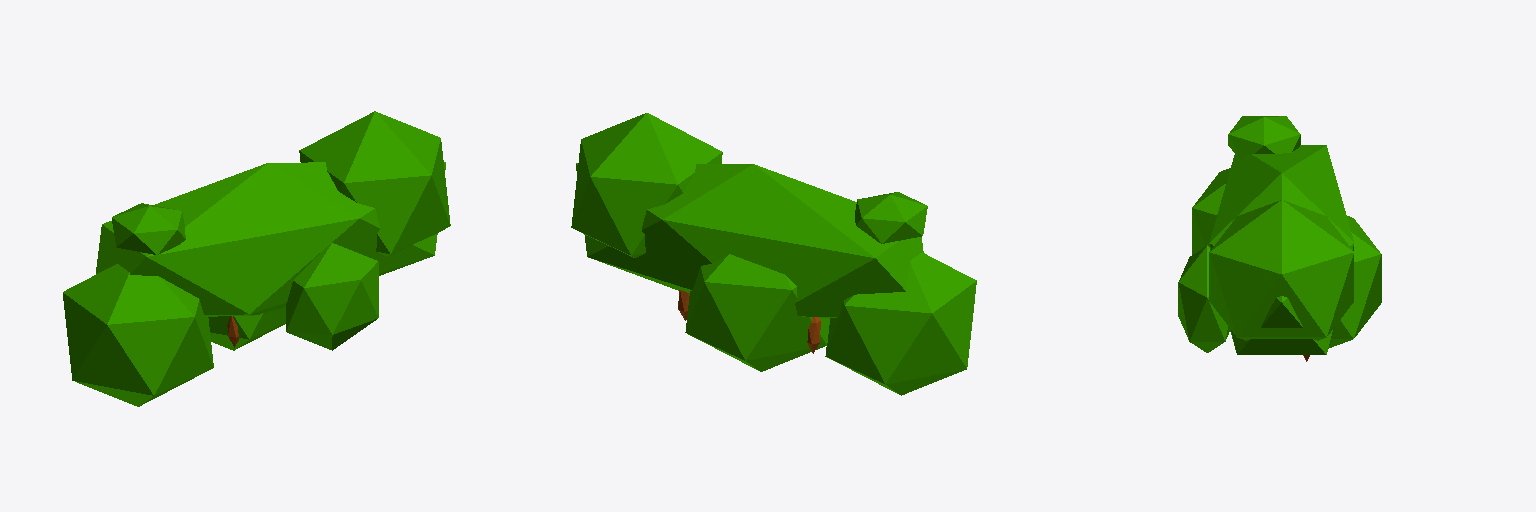
Rendered from Peanut.obj.
3 renders of one model, left to right at view 1: azimuth 30°, elevation 25°; view 2: azimuth 150°, elevation 25°; view 3: azimuth 270°, elevation 25°, orthographic.
Parts seen in each view (by area): view 1: Icosphere_Icosphere.096, Icosphere.003_Icosphere.099, Icosphere.001_Icosphere.097, Icosphere.005_Icosphere.101, Icosphere.004_Icosphere.100, Icosphere.002_Icosphere.098; view 2: Icosphere_Icosphere.096, Icosphere.003_Icosphere.099, Icosphere.001_Icosphere.097, Icosphere.002_Icosphere.098, Icosphere.004_Icosphere.100; view 3: Icosphere.001_Icosphere.097, Icosphere_Icosphere.096, Icosphere.005_Icosphere.101, Icosphere.002_Icosphere.098, Icosphere.004_Icosphere.100, Icosphere.003_Icosphere.099.
Boxes of the visible parts, x1=… form: Icosphere_Icosphere.096: x1=96, y1=162, x2=445, y2=316; Icosphere.003_Icosphere.099: x1=63, y1=264, x2=213, y2=406; Icosphere.001_Icosphere.097: x1=299, y1=111, x2=450, y2=256; Icosphere.005_Icosphere.101: x1=286, y1=243, x2=378, y2=350; Icosphere.004_Icosphere.100: x1=112, y1=203, x2=185, y2=254; Icosphere.002_Icosphere.098: x1=208, y1=307, x2=285, y2=350; Icosphere_Icosphere.096: x1=576, y1=163, x2=923, y2=317; Icosphere.003_Icosphere.099: x1=825, y1=252, x2=976, y2=395; Icosphere.001_Icosphere.097: x1=571, y1=113, x2=722, y2=257; Icosphere.002_Icosphere.098: x1=685, y1=254, x2=829, y2=371; Icosphere.004_Icosphere.100: x1=855, y1=192, x2=927, y2=243; Icosphere.001_Icosphere.097: x1=1209, y1=200, x2=1353, y2=340; Icosphere_Icosphere.096: x1=1209, y1=145, x2=1353, y2=354; Icosphere.005_Icosphere.101: x1=1178, y1=245, x2=1229, y2=352; Icosphere.002_Icosphere.098: x1=1329, y1=216, x2=1381, y2=347; Icosphere.004_Icosphere.100: x1=1228, y1=116, x2=1300, y2=159; Icosphere.003_Icosphere.099: x1=1192, y1=168, x2=1230, y2=254.
Bounding box in the file's own units: 5.19 × 2.98 × 2.38.